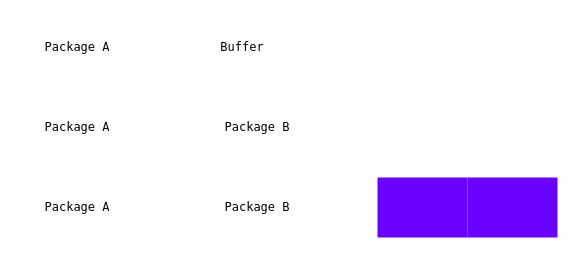
The diagram is 574 pixels wide and 254 high, and some of its shapes have lost their labels. Here are the shapes that lost their labels. From the top down, the centre of each, then its label:
At point 422,207: "Package C".
At point 512,207: "Package C remains".
